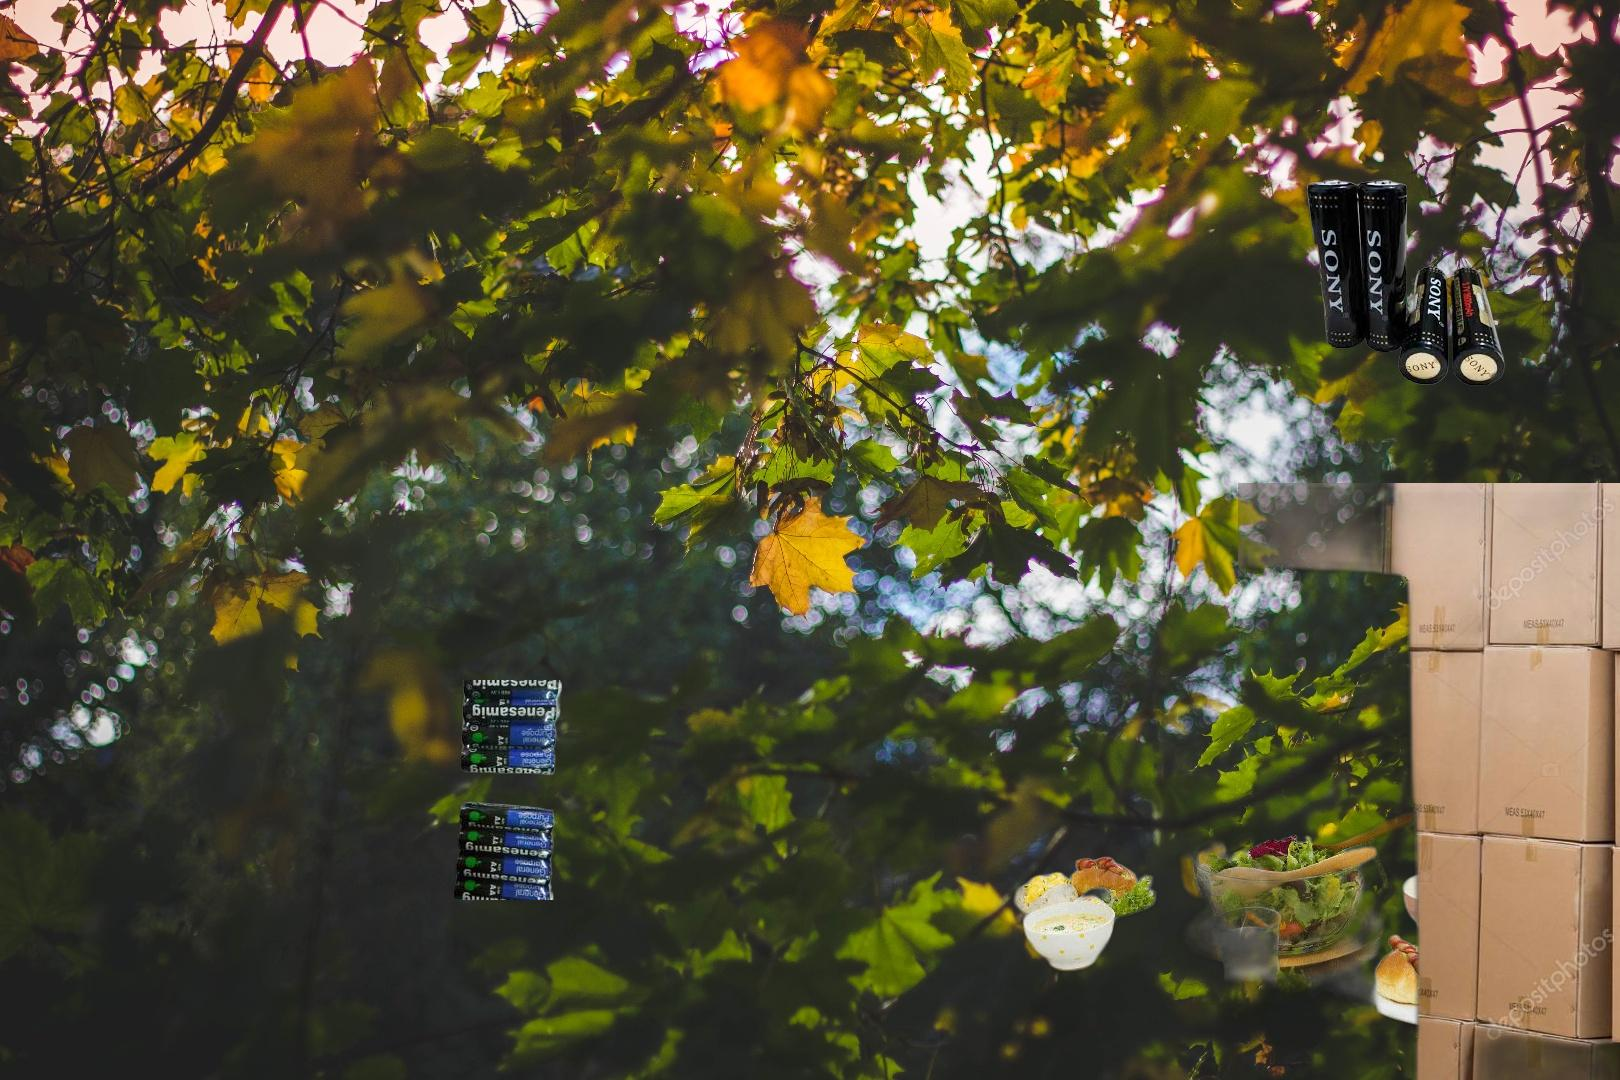battery: (1304, 176, 1507, 388), (451, 680, 565, 900)
biological: (993, 803, 1573, 1062)
trashbox-cardboard: (1238, 483, 1620, 1080)
